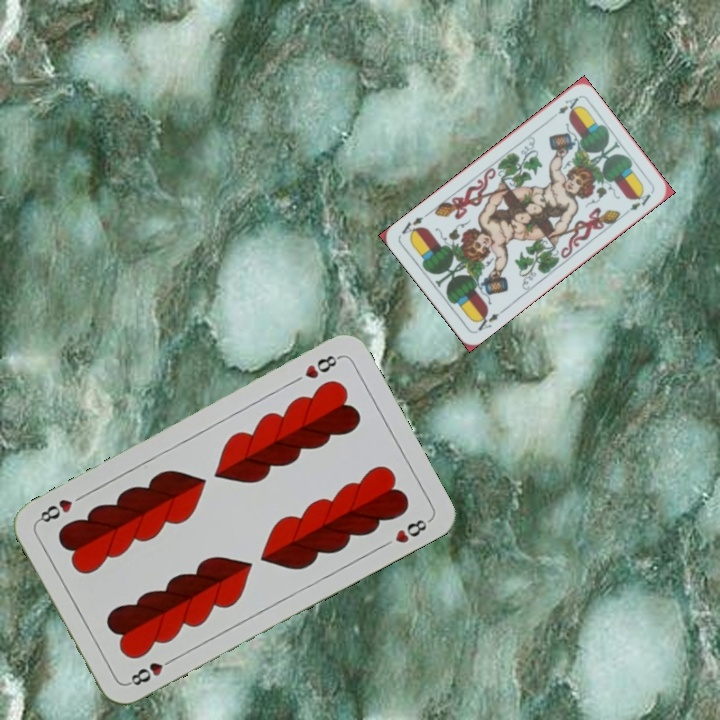EA: (471, 305, 507, 334), (554, 93, 581, 117)
H8: (123, 653, 178, 689), (300, 351, 343, 382)
